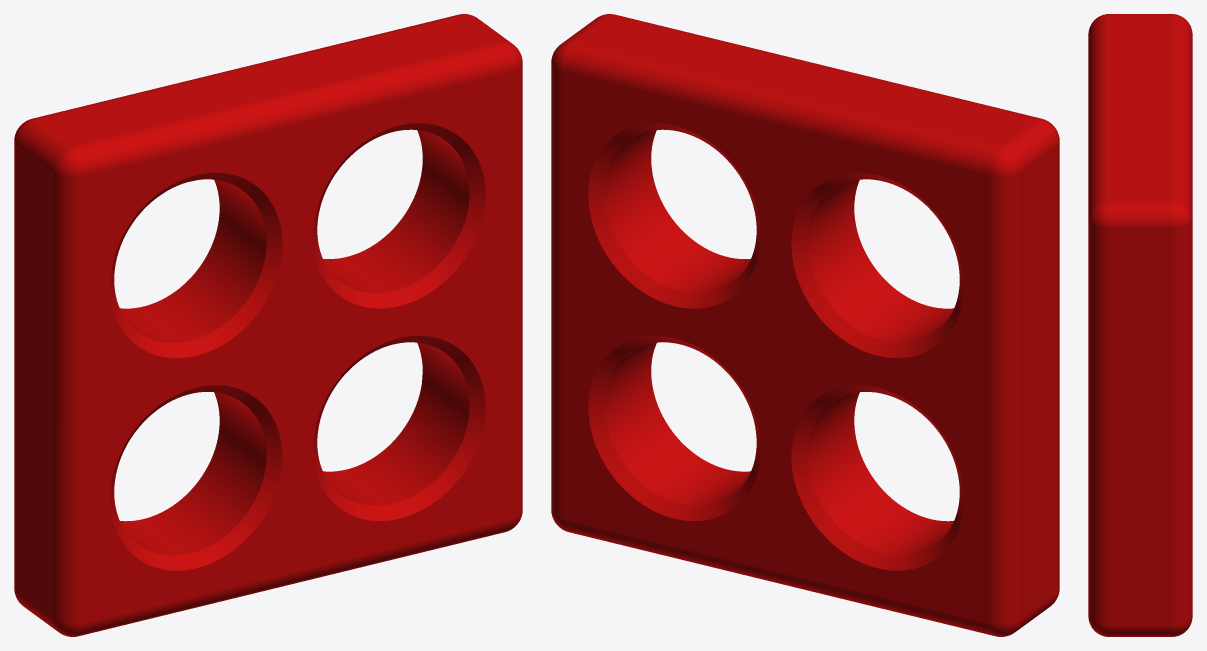
The model's file is toy_five_insertion_four.obj.
The picture shows the model from 3 angles, left to right: view 1: azimuth 30°, elevation 25°; view 2: azimuth 150°, elevation 25°; view 3: azimuth 270°, elevation 25°; orthographic projection. The views are drawn at different scales.
Size of the model in its own units: 0.046 by 0.046 by 0.01.
